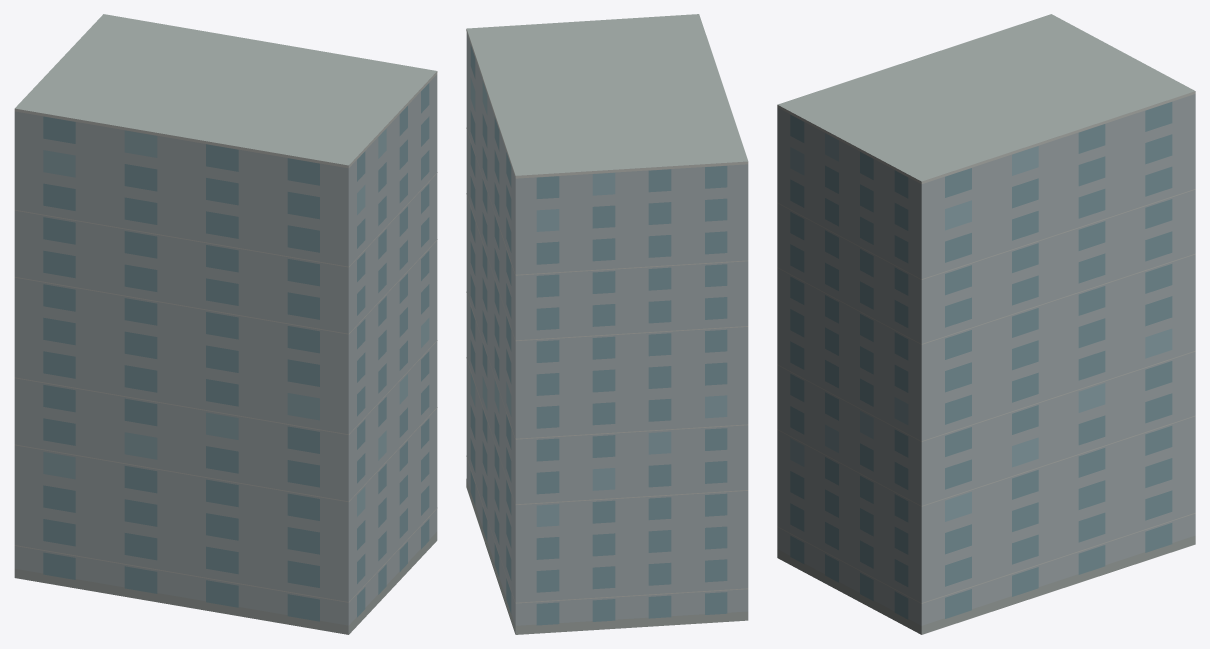
Rendered from residential-60adbefd-3162-4c23-8678-270bdd612a13.glb.
3 views of the same model, side by side, from view 1: azimuth 30°, elevation 25°; view 2: azimuth 150°, elevation 25°; view 3: azimuth 270°, elevation 25° (orthographic). The views are drawn at different scales.
Visible parts, largest first — view 1: residential-60adbefd-3162-4c23-8678-270bdd612a13.tmp; view 2: residential-60adbefd-3162-4c23-8678-270bdd612a13.tmp; view 3: residential-60adbefd-3162-4c23-8678-270bdd612a13.tmp.
Part boxes in pixels (box(x1,y1,x2,y2)): residential-60adbefd-3162-4c23-8678-270bdd612a13.tmp: box(14, 14, 437, 634); residential-60adbefd-3162-4c23-8678-270bdd612a13.tmp: box(466, 14, 748, 634); residential-60adbefd-3162-4c23-8678-270bdd612a13.tmp: box(777, 14, 1195, 634).
Bounding box in the file's own units: 31.72 × 40 × 33.46.
